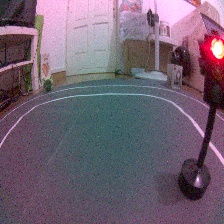red: (179, 31, 223, 203)
